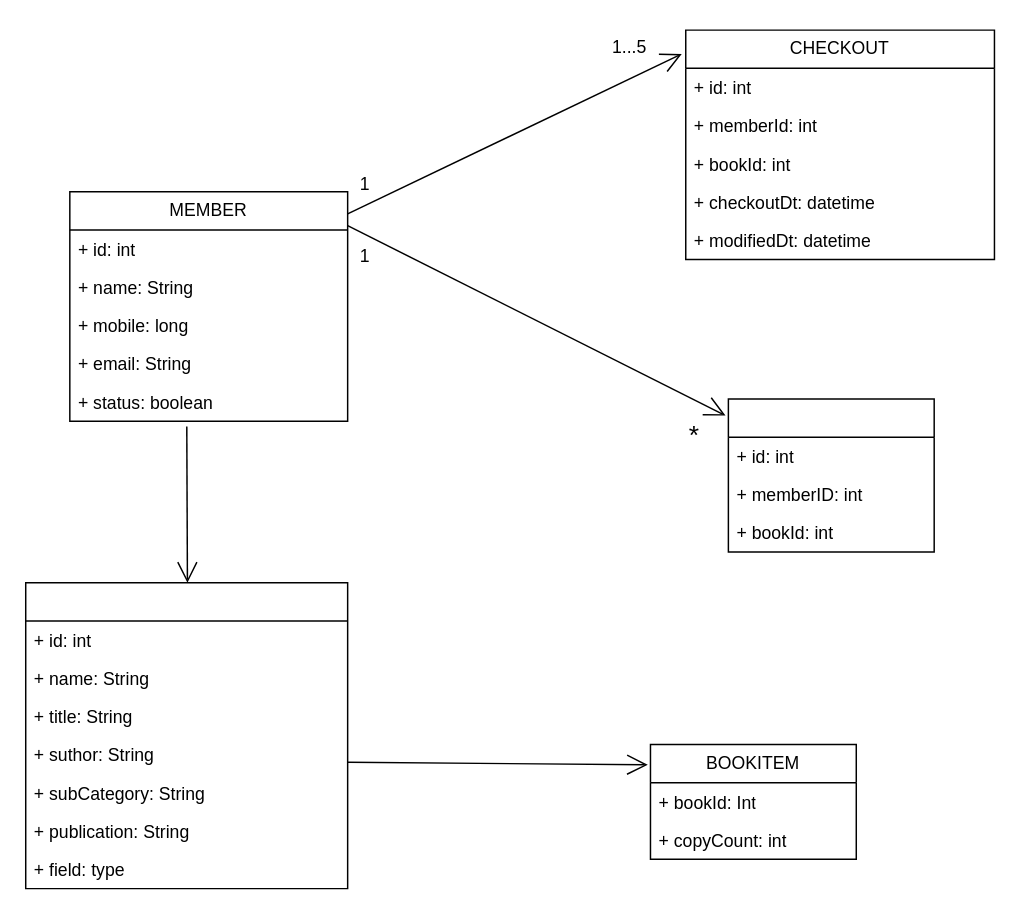
Image size: 1020x917. Some labels were removed from this diagram. The shapes that lost their labels are listed below. From the top down, each one's box as (x1, y1, x2, y2) in pixels, then its label:
(727, 398, 934, 552): RESERVATION
(24, 581, 348, 889): BOOK
